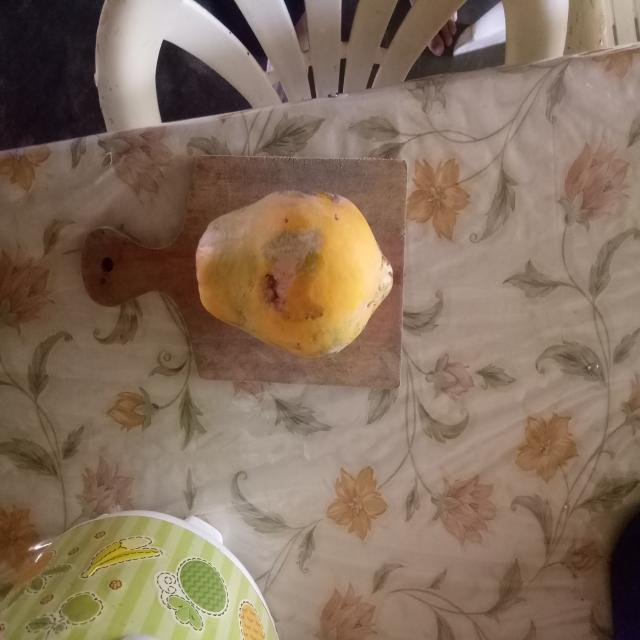Pepaya rippen: (191, 192, 400, 368)
